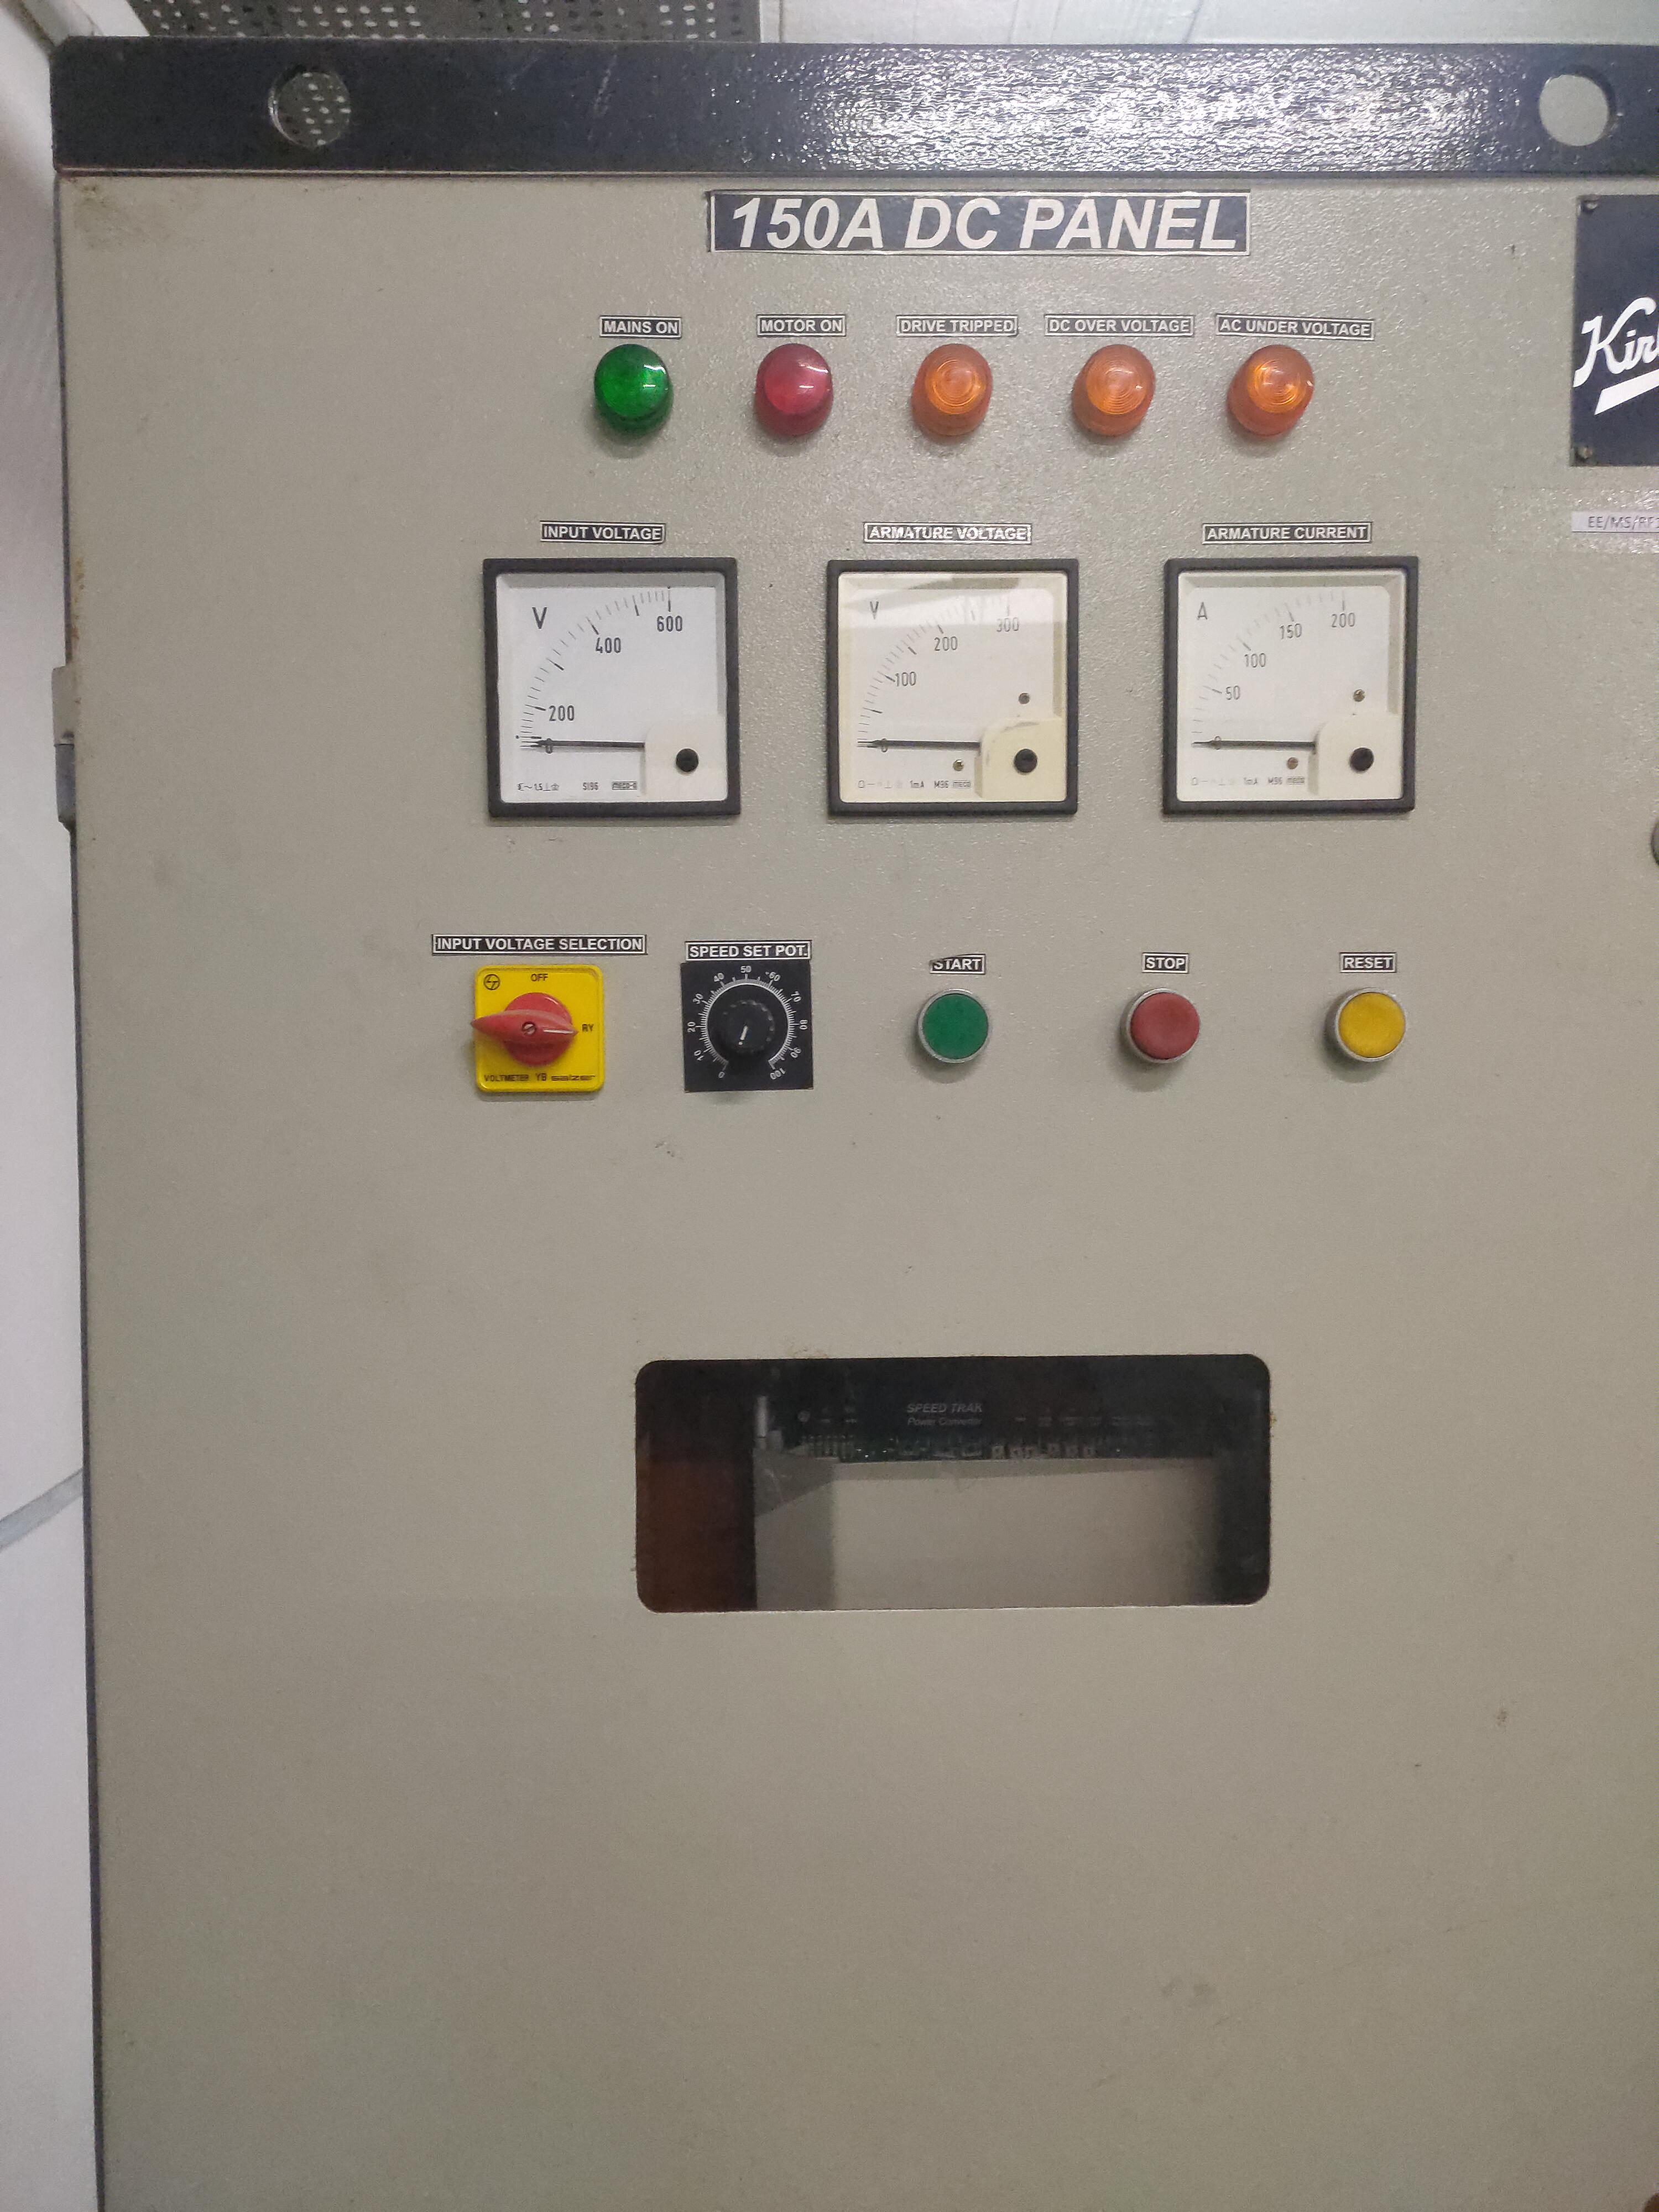Light Indications: (495, 305, 1358, 489)
